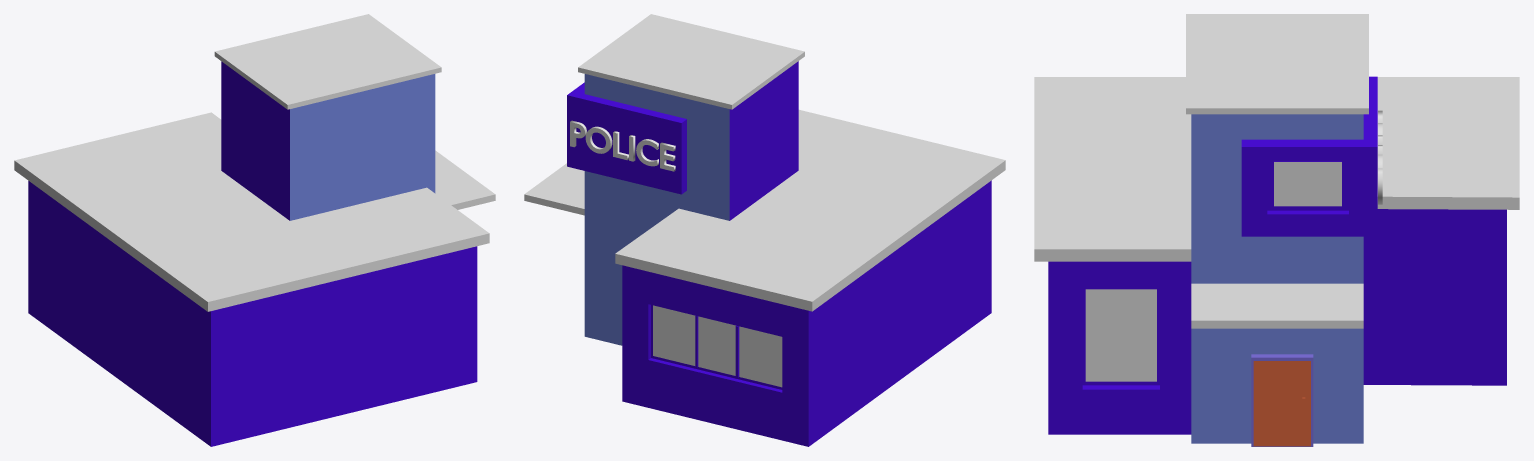
Rendered from police.fbx.
The picture shows the model from 3 angles, left to right: view 1: azimuth 30°, elevation 25°; view 2: azimuth 150°, elevation 25°; view 3: azimuth 270°, elevation 25°; orthographic projection. The views are drawn at different scales.
Parts seen in each view (by area): view 1: Building; view 2: Building, Text; view 3: Building, Text.
Boxes of the visible parts, x1,y1,x2,y2 form: Building: [14, 14, 495, 446]; Building: [524, 14, 1005, 446]; Text: [570, 120, 675, 171]; Building: [1034, 14, 1519, 446]; Text: [1378, 110, 1382, 204].
Bounding box in the file's own units: 1085 × 798 × 1038.
